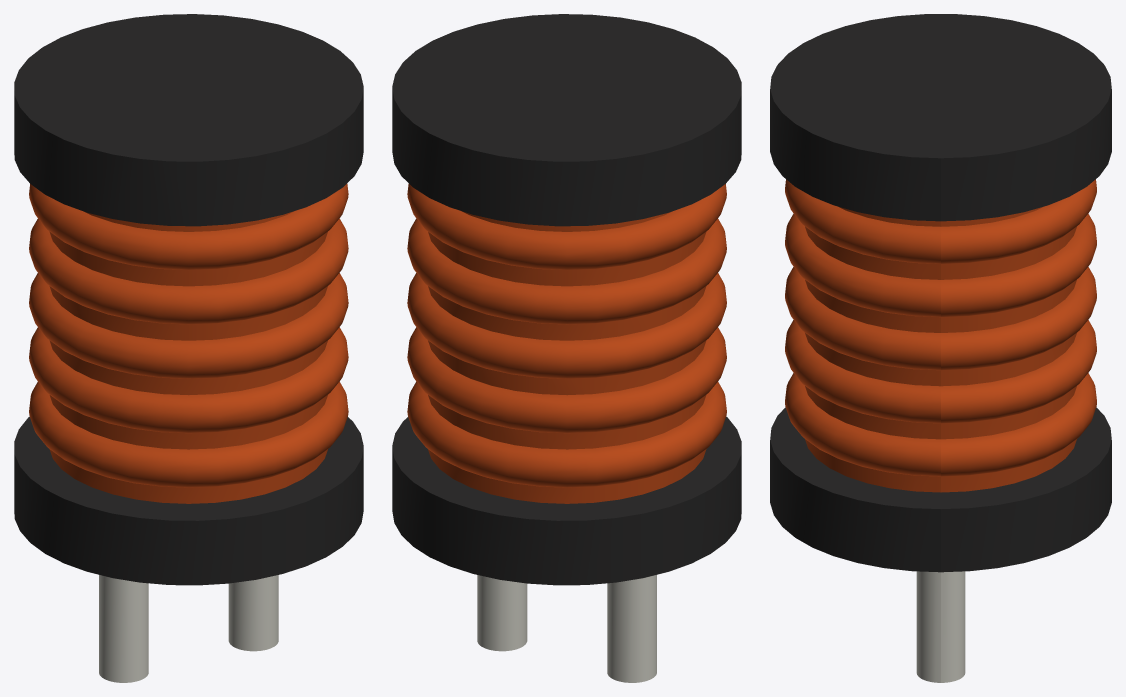
The model's file is kc-l_radial_d7.0mm_p3.00mm.glb.
3 renders of one model, left to right at view 1: azimuth 30°, elevation 25°; view 2: azimuth 150°, elevation 25°; view 3: azimuth 270°, elevation 25°, orthographic. The views are drawn at different scales.
Parts seen in each view (by area): view 1: 0_0_0_0, 0.4166666666666667_0.08333333333333333_0_0, 0.6666666666666666_0.6666666666666666_0.5833333333333334_0.8; view 2: 0_0_0_0, 0.4166666666666667_0.08333333333333333_0_0, 0.6666666666666666_0.6666666666666666_0.5833333333333334_0.8; view 3: 0_0_0_0, 0.4166666666666667_0.08333333333333333_0_0, 0.6666666666666666_0.6666666666666666_0.5833333333333334_0.8.
Boxes of the visible parts, x1=… form: 0_0_0_0: x1=14, y1=14, x2=363, y2=585; 0.4166666666666667_0.08333333333333333_0_0: x1=29, y1=183, x2=348, y2=503; 0.6666666666666666_0.6666666666666666_0.5833333333333334_0.8: x1=99, y1=575, x2=278, y2=682; 0_0_0_0: x1=392, y1=14, x2=741, y2=585; 0.4166666666666667_0.08333333333333333_0_0: x1=407, y1=183, x2=726, y2=503; 0.6666666666666666_0.6666666666666666_0.5833333333333334_0.8: x1=477, y1=575, x2=656, y2=682; 0_0_0_0: x1=770, y1=14, x2=1111, y2=572; 0.4166666666666667_0.08333333333333333_0_0: x1=785, y1=179, x2=1096, y2=492; 0.6666666666666666_0.6666666666666666_0.5833333333333334_0.8: x1=916, y1=571, x2=965, y2=682.
Bounding box in the file's own units: 0.6988 × 1.26 × 0.6994.
